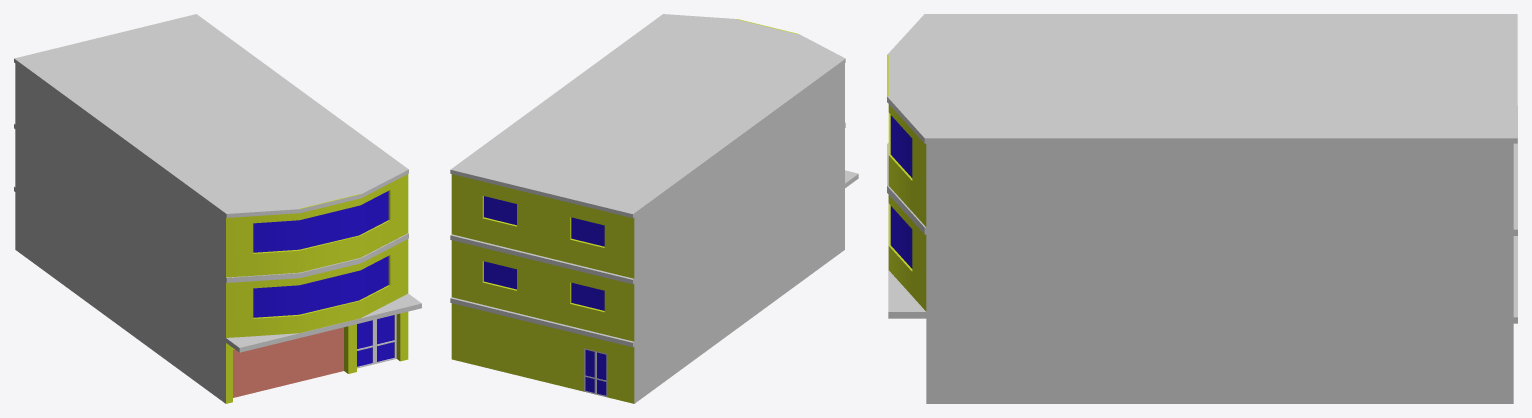
Rendered from building19.fbx.
3 renders of one model, left to right at view 1: azimuth 30°, elevation 25°; view 2: azimuth 150°, elevation 25°; view 3: azimuth 270°, elevation 25°, orthographic. The views are drawn at different scales.
Parts seen in each view (by area): view 1: building8; view 2: building8; view 3: building8.
Part boxes in pixels (<box>): building8: <box>14,14,421,403</box>; building8: <box>450,14,858,403</box>; building8: <box>887,14,1517,403</box>.
Bounding box in the file's own units: 1000 × 998 × 2146.
